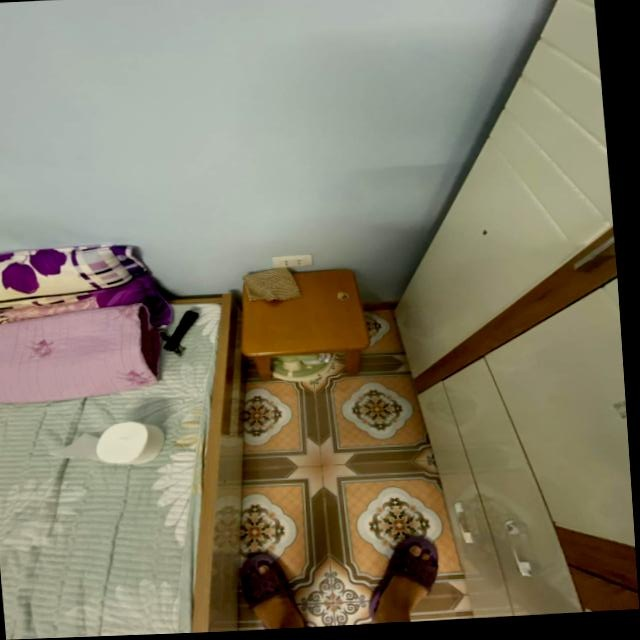outlet: (271, 256, 313, 270)
